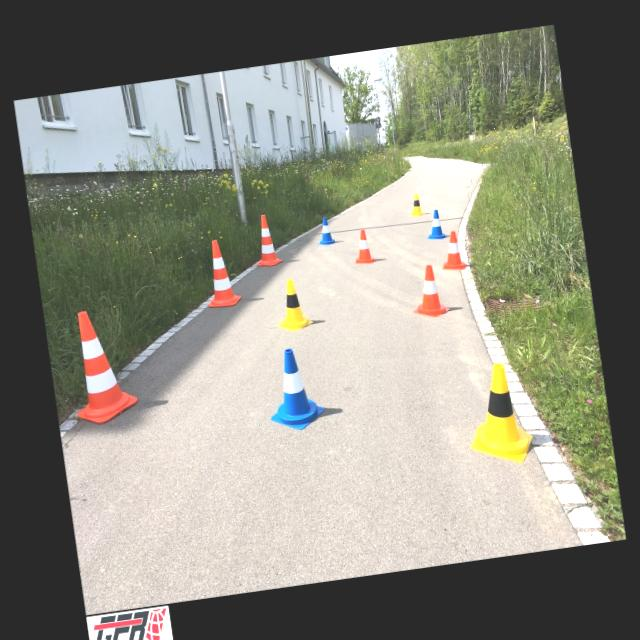blue_cone: (262, 345, 327, 433), (313, 214, 337, 247), (425, 209, 448, 241)
large_orange_cone: (64, 306, 140, 426), (201, 238, 241, 308), (251, 213, 282, 267)
orange_cone: (408, 263, 451, 319), (438, 230, 468, 272), (351, 228, 377, 266)
yellow_cone: (460, 359, 535, 468), (272, 278, 314, 332), (408, 193, 424, 217)
